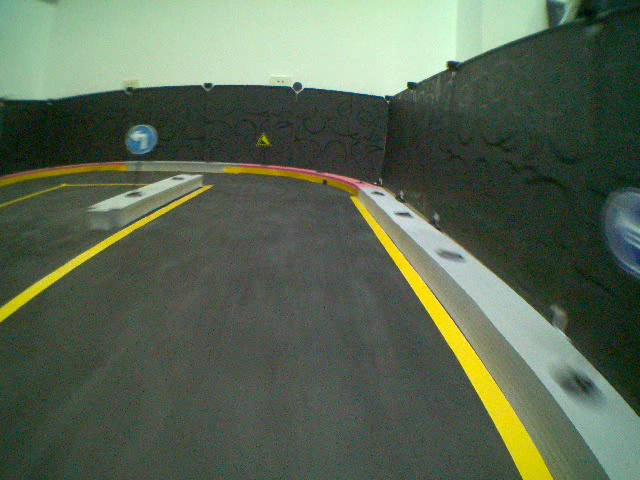fast: (254, 133, 270, 147)
turn: (123, 122, 158, 156)
